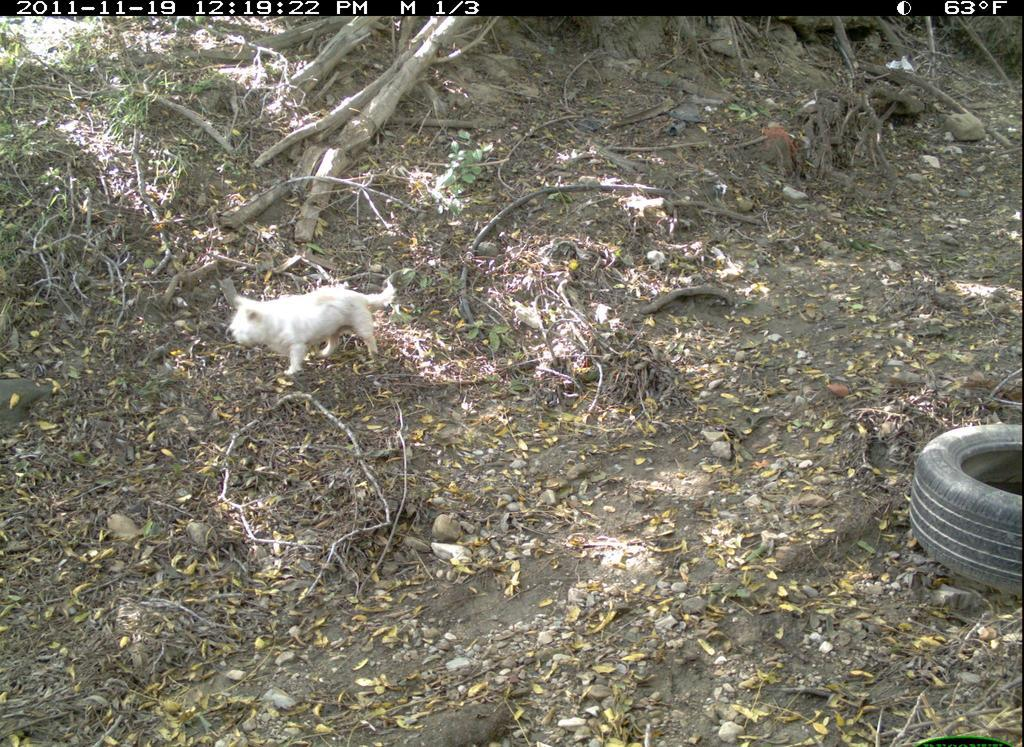dog: (222, 278, 402, 381)
